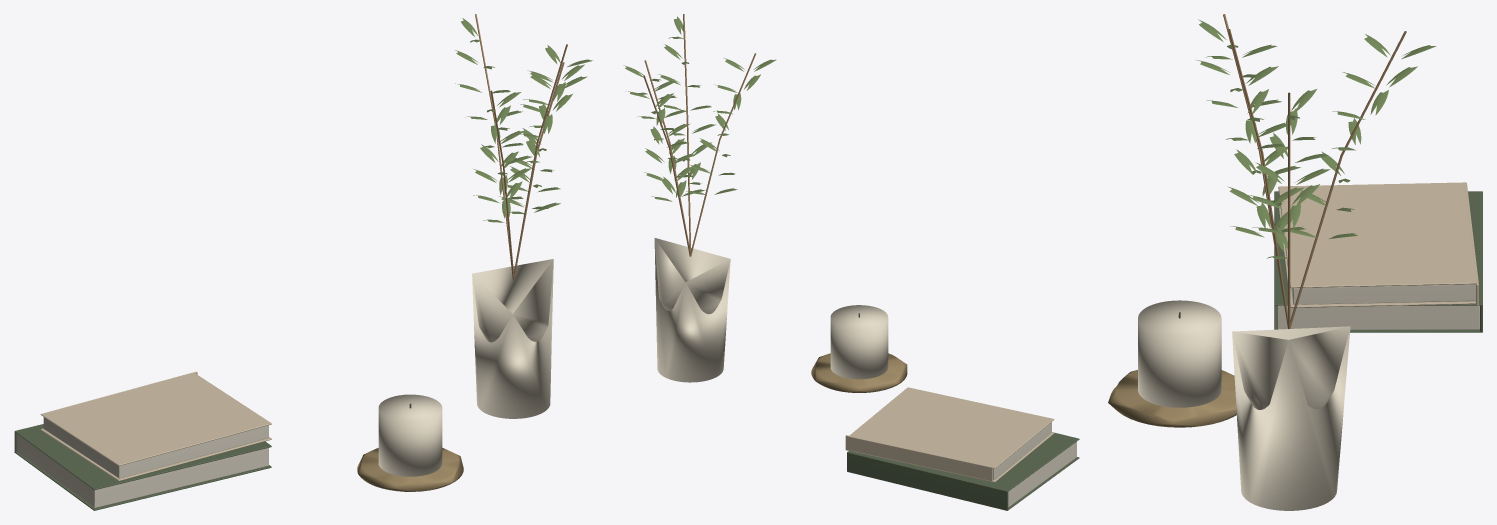
File: coffee-still-life-light.glb
3 views of the same model, side by side, from view 1: azimuth 30°, elevation 25°; view 2: azimuth 150°, elevation 25°; view 3: azimuth 270°, elevation 25° (orthographic). The views are drawn at different scales.
Visible parts, largest first — view 1: Mood stoneware chalk, Mood linen oat, Mood book pages, Mood olive leaf, Mood book olive, Mood aged brass, Mood oak board; view 2: Mood stoneware chalk, Mood linen oat, Mood book olive, Mood olive leaf, Mood aged brass, Mood book pages, Mood oak board; view 3: Mood stoneware chalk, Mood linen oat, Mood book pages, Mood olive leaf, Mood aged brass, Mood oak board, Mood book olive.
Boxes of the visible parts, left/top/right/bottom form: Mood stoneware chalk: left=378, top=259, right=553, bottom=476; Mood linen oat: left=40, top=371, right=271, bottom=481; Mood book pages: left=17, top=417, right=268, bottom=508; Mood olive leaf: left=455, top=18, right=592, bottom=222; Mood book olive: left=14, top=403, right=411, bottom=510; Mood aged brass: left=357, top=448, right=463, bottom=491; Mood oak board: left=475, top=14, right=567, bottom=279; Mood stoneware chalk: left=654, top=238, right=888, bottom=382; Mood linen oat: left=845, top=387, right=1054, bottom=482; Mood book olive: left=847, top=313, right=1079, bottom=510; Mood olive leaf: left=623, top=16, right=776, bottom=201; Mood aged brass: left=811, top=353, right=907, bottom=392; Mood book pages: left=993, top=422, right=1076, bottom=507; Mood oak board: left=643, top=14, right=755, bottom=256; Mood stoneware chalk: left=1138, top=300, right=1350, bottom=510; Mood linen oat: left=1278, top=182, right=1478, bottom=307; Mood book pages: left=1277, top=284, right=1479, bottom=329; Mood olive leaf: left=1196, top=19, right=1436, bottom=259; Mood aged brass: left=1108, top=370, right=1236, bottom=427; Mood oak board: left=1223, top=14, right=1406, bottom=328; Mood book olive: left=1178, top=191, right=1482, bottom=332.
Bounding box in the file's own units: 0.7564 × 0.5337 × 0.3772.
